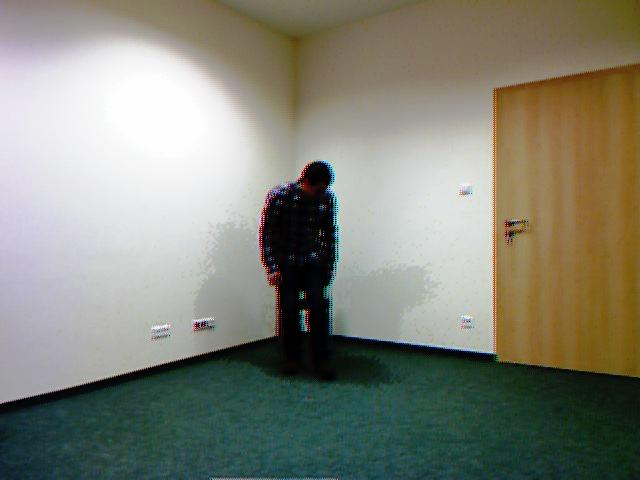standing: (257, 146, 356, 385)
